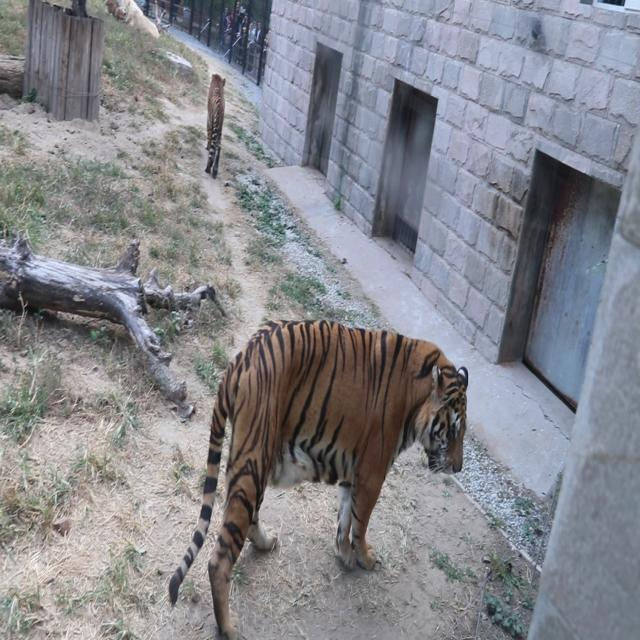Tiger: (168, 252, 492, 640), (196, 66, 242, 195)
